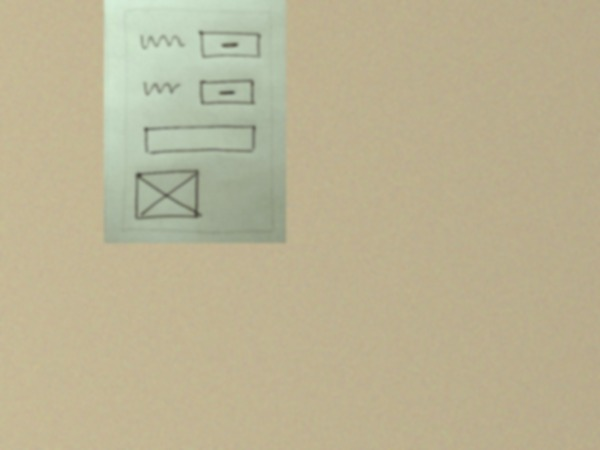button: (195, 29, 263, 63), (196, 78, 259, 110)
image: (131, 167, 203, 222)
text: (139, 32, 186, 56), (141, 78, 182, 99)
text_input: (142, 123, 259, 158)
